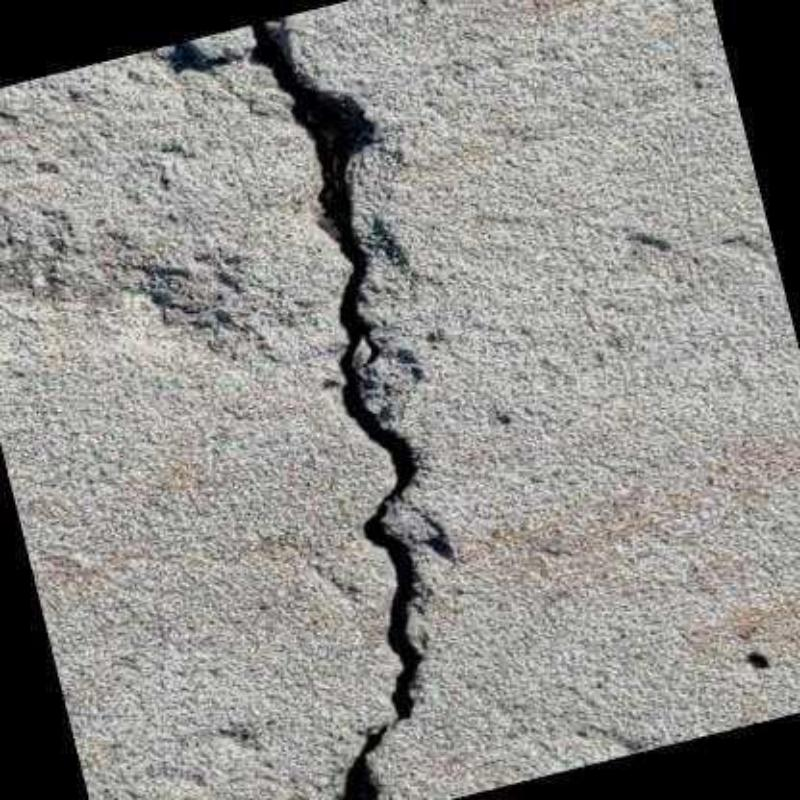pothole: (241, 18, 437, 796), (158, 44, 244, 75)
